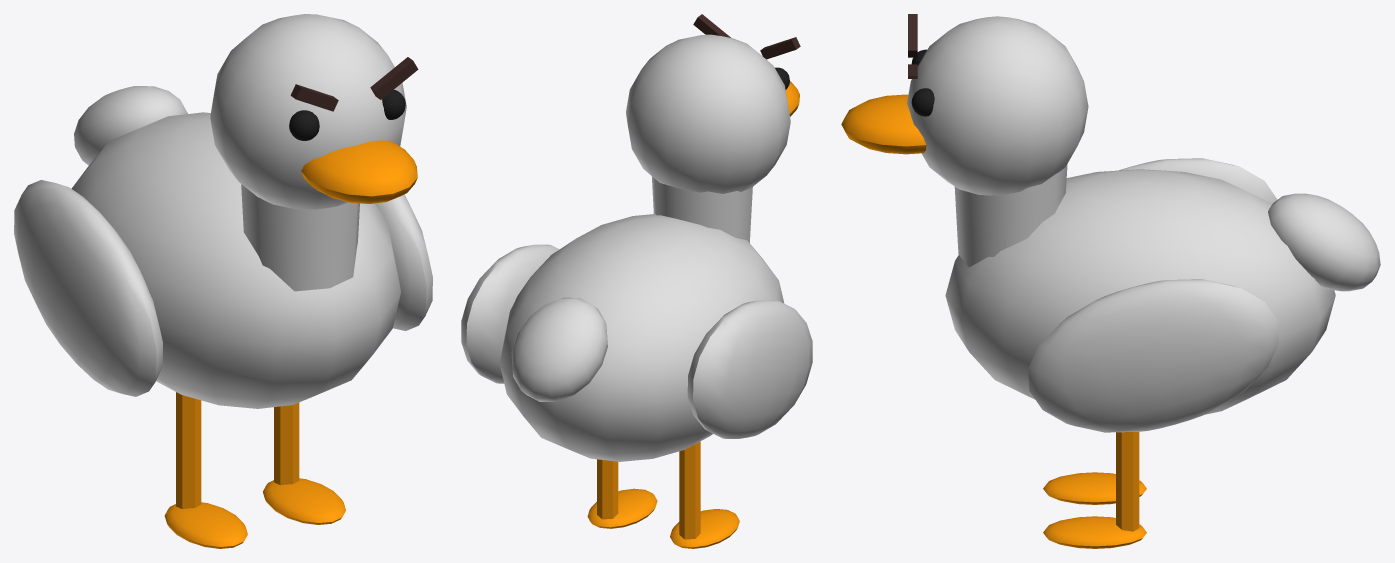
Rendered from cameos_duck.glb.
3 renders of one model, left to right at view 1: azimuth 30°, elevation 25°; view 2: azimuth 150°, elevation 25°; view 3: azimuth 270°, elevation 25°, orthographic. The views are drawn at different scales.
Parts seen in each view (by area): view 1: Body.004, Arm_R.005, Leg_R.004, Leg_L.004, Arm_L.005; view 2: Body.004, Arm_R.005, Arm_L.005, Leg_R.004, Leg_L.004; view 3: Body.004, Arm_L.005, Leg_L.004, Arm_R.005, Leg_R.004.
Boxes of the visible parts, <box> form: Body.004: <box>71,14,418,408</box>; Arm_R.005: <box>14,180,162,396</box>; Leg_R.004: <box>164,392,247,548</box>; Leg_L.004: <box>263,402,345,524</box>; Arm_L.005: <box>375,194,432,330</box>; Body.004: <box>500,14,800,461</box>; Arm_R.005: <box>687,300,812,438</box>; Arm_L.005: <box>461,244,559,383</box>; Leg_R.004: <box>670,441,739,548</box>; Leg_L.004: <box>587,459,657,528</box>; Body.004: <box>841,14,1380,414</box>; Arm_L.005: <box>1028,279,1278,432</box>; Leg_L.004: <box>1043,432,1146,548</box>; Arm_R.005: <box>1118,158,1277,203</box>; Leg_R.004: <box>1043,472,1146,504</box>.
Bounding box in the file's own units: 0.54 × 0.84 × 0.829.
